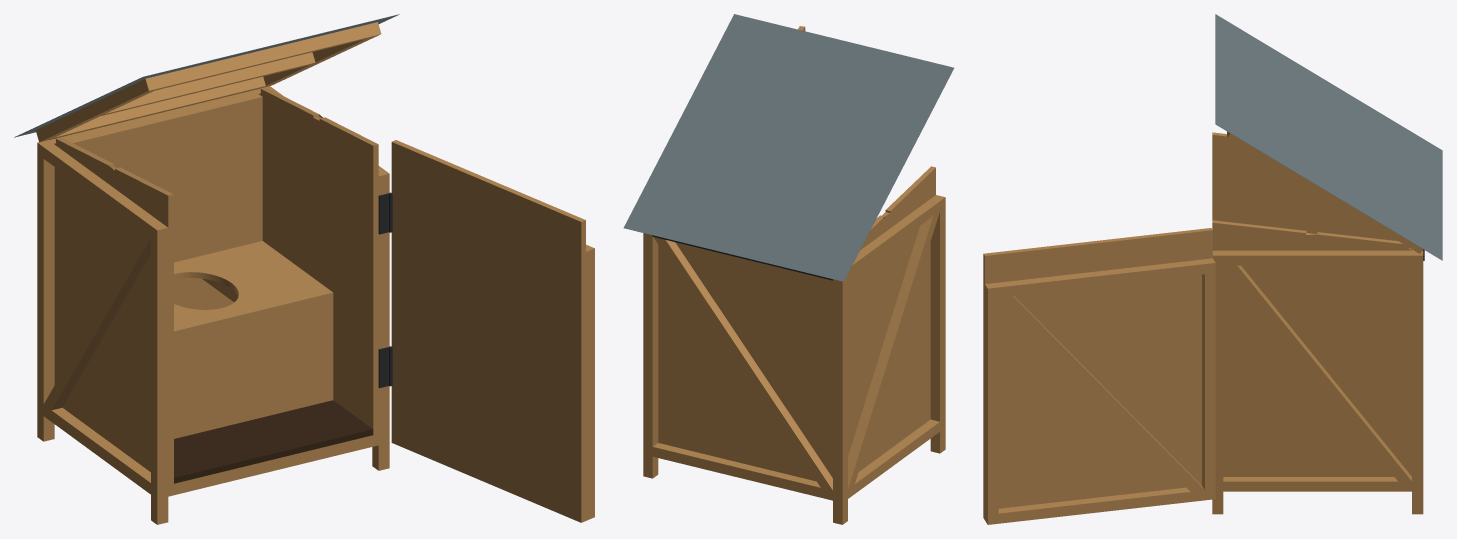
Rendered from dass-open.glb.
3 renders of one model, left to right at view 1: azimuth 30°, elevation 25°; view 2: azimuth 150°, elevation 25°; view 3: azimuth 270°, elevation 25°, orthographic. The views are drawn at different scales.
Parts seen in each view (by area): view 1: door_panel, right_wall, left_wall, back_wall, seat_front, floor, seat_top, front_post_left, back_post_left, left_brace, roof_front, front_post_right (+10 smaller); view 2: roof, back_wall, left_wall, back_brace, left_brace, back_post_right, front_post_left, back_post_left, back_bottom, left_bottom, left_top, right_wall; view 3: door_panel, right_wall, roof, left_wall, right_brace, door_brace, door_left, door_right, door_top, door_bottom, back_post_right, right_top (+3 smaller).
Boxes of the visible parts, left/top/right/bottom form: door_panel: left=391, top=140, right=585, bottom=522; right_wall: left=259, top=87, right=378, bottom=434; left_wall: left=54, top=137, right=173, bottom=484; back_wall: left=60, top=94, right=262, bottom=309; seat_front: left=174, top=298, right=333, bottom=438; floor: left=174, top=400, right=373, bottom=483; seat_top: left=174, top=241, right=333, bottom=337; front_post_left: left=151, top=223, right=168, bottom=524; back_post_left: left=37, top=140, right=54, bottom=441; left_brace: left=44, top=232, right=150, bottom=410; roof_front: left=140, top=22, right=381, bottom=93; front_post_right: left=372, top=169, right=389, bottom=470; roof: left=623, top=14, right=954, bottom=281; back_wall: left=663, top=242, right=832, bottom=481; left_wall: left=848, top=166, right=935, bottom=471; back_brace: left=653, top=237, right=832, bottom=490; left_brace: left=848, top=211, right=939, bottom=488; back_post_right: left=643, top=233, right=658, bottom=478; front_post_left: left=930, top=195, right=945, bottom=453; back_post_left: left=833, top=274, right=847, bottom=524; back_bottom: left=652, top=443, right=832, bottom=500; left_bottom: left=848, top=419, right=939, bottom=498; left_top: left=848, top=199, right=939, bottom=277; right_wall: left=658, top=245, right=662, bottom=443; door_panel: left=983, top=228, right=1212, bottom=519; right_wall: left=1212, top=220, right=1411, bottom=476; roof: left=1215, top=14, right=1442, bottom=260; left_wall: left=1212, top=132, right=1397, bottom=240; right_brace: left=1224, top=265, right=1411, bottom=481; door_brace: left=999, top=296, right=1204, bottom=491; door_left: left=985, top=283, right=998, bottom=524; door_right: left=1202, top=258, right=1215, bottom=500; door_top: left=996, top=259, right=1204, bottom=297; door_bottom: left=998, top=487, right=1204, bottom=523; back_post_right: left=1412, top=250, right=1423, bottom=514; right_top: left=1223, top=250, right=1411, bottom=265.
Size of the model in its own units: 1316 by 1757 by 1849.
